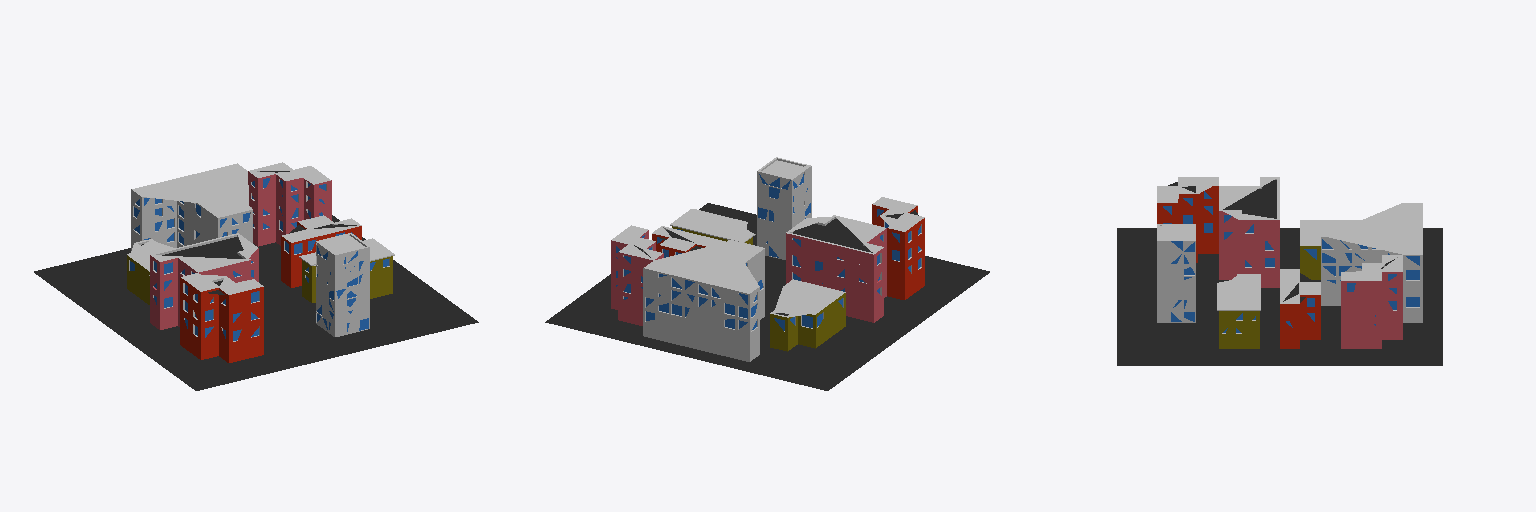
The model's file is LowPolyCITY.obj.
The picture shows the model from 3 angles: view 1: azimuth 30°, elevation 25°; view 2: azimuth 150°, elevation 25°; view 3: azimuth 270°, elevation 25°; orthographic projection.
Parts seen in each view (by area): view 1: City_Plane; view 2: City_Plane; view 3: City_Plane.
Part boxes in pixels (bbox=[...]): City_Plane: bbox=[34, 162, 478, 390]; City_Plane: bbox=[545, 157, 989, 390]; City_Plane: bbox=[1117, 177, 1442, 365].
Size of the model in its own units: 4.2 by 1.17 by 4.2.